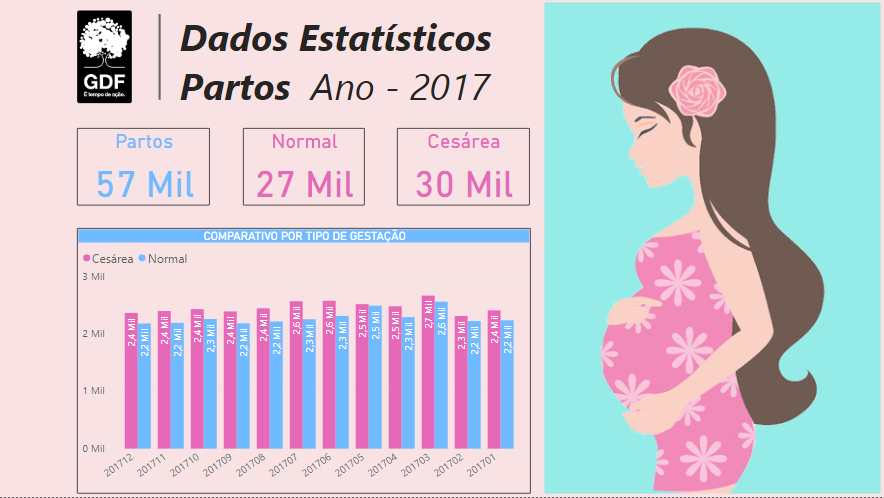

This screenshot's page, from the dashboard's own definition file:
{"tool":"powerbi","page":{"name":"Gestacao 2017","canvas":[1280,720],"ordinal":0},"visuals":[{"type":"image","box":[784,0,496,720],"z":0},{"type":"clusteredColumnChart","title":"COMPARATIVO POR TIPO DE GESTAÇÃO","fields":{"Category":["sinasc122017.ano_mes"],"Y":["Sum(sinasc122017.cesario)","Sum(sinasc122017.vaginal)"]},"box":[112.1,331.1,656,384],"z":1000},{"type":"image","box":[0.1,11.1,304,144],"z":2000},{"type":"textbox","box":[256.1,11.1,528,160],"z":3000},{"type":"basicShape","box":[208.1,11.1,48,144],"z":4000},{"type":"card","title":"Partos","fields":{"Values":["Sum(sinasc122017.total_gestacao)"]},"box":[112.1,187.1,192,112],"z":5000},{"type":"card","title":"Normal","fields":{"Values":["Sum(sinasc122017.vaginal)"]},"box":[352.1,187.1,176,112],"z":6000},{"type":"card","title":"Cesárea","fields":{"Values":["Sum(sinasc122017.cesario)"]},"box":[576.1,187.1,192,112],"z":7000}]}

Visuals, with their boxes in screenshot pixels (x1, y1, x2, y2), scaled from the page's 1280x720 canvas onto the 884x498 screenshot:
image: x1=541 y1=0 x2=883 y2=497
"COMPARATIVO POR TIPO DE GESTAÇÃO" clusteredColumnChart: x1=77 y1=229 x2=530 y2=495
image: x1=0 y1=8 x2=210 y2=107
textbox: x1=177 y1=8 x2=542 y2=118
basicShape: x1=144 y1=8 x2=177 y2=107
"Partos" card: x1=77 y1=129 x2=210 y2=207
"Normal" card: x1=243 y1=129 x2=365 y2=207
"Cesárea" card: x1=398 y1=129 x2=530 y2=207
